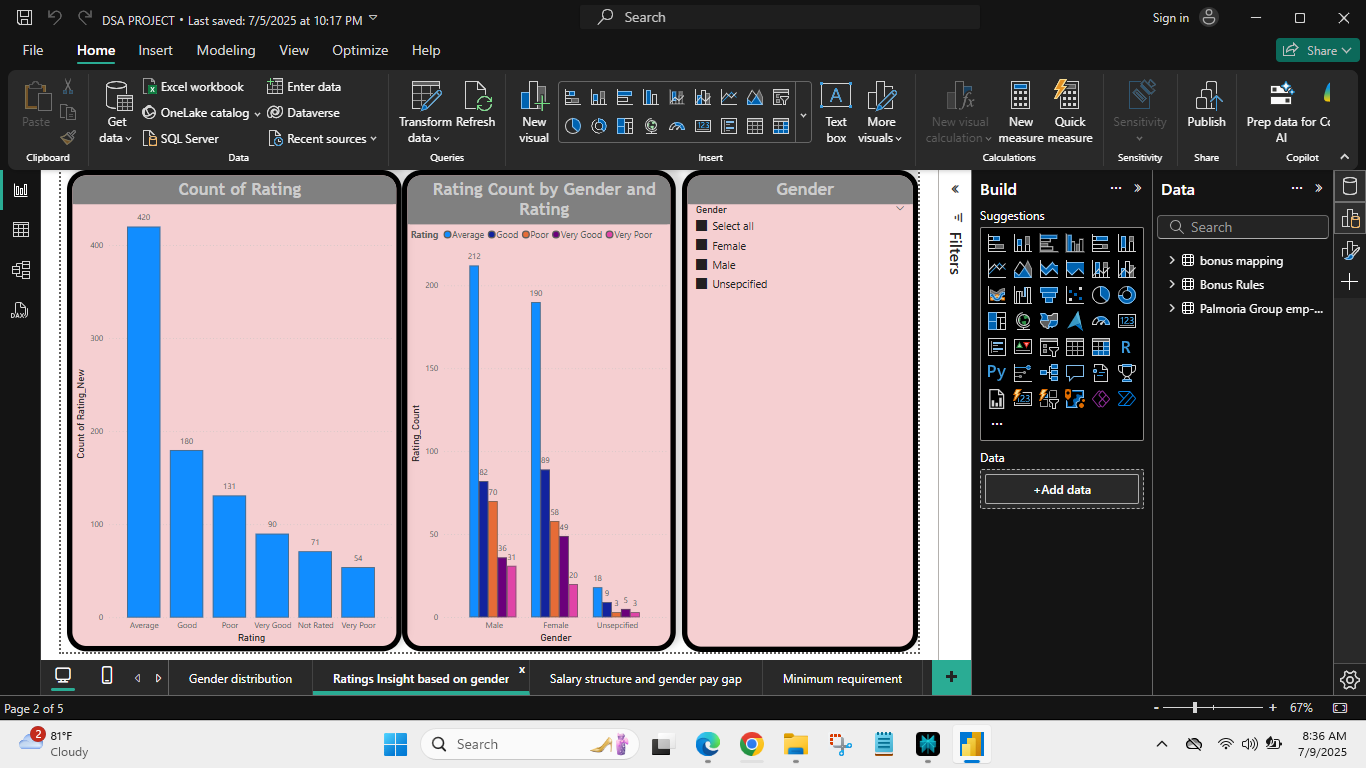

The dashboard page shown, as its layout file describes it:
{"tool":"powerbi","page":{"name":"Ratings Insight based on gender","canvas":[1280,720],"ordinal":1},"visuals":[{"type":"clusteredColumnChart","title":"Count of Rating","fields":{"Y":["CountNonNull(Palmoria Group emp-data.Rating_New)"],"Category":["Palmoria Group emp-data.Rating"]},"box":[9.3,0,499.9,719.4],"z":0},{"type":"clusteredColumnChart","title":"Rating Count by Gender and Rating","fields":{"Category":["Palmoria Group emp-data.Gender_New"],"Y":["Palmoria Group emp-data.Rating_Count"],"Series":["Palmoria Group emp-data.Rating"]},"box":[509.2,0,408.8,719.4],"z":1000},{"type":"slicer","title":"Gender","fields":{"Values":["Palmoria Group emp-data.Gender_New"]},"box":[927.5,0,352.5,720],"z":2000}]}

Visuals, with their boxes on the page's 1280x720 design canvas (x1, y1, x2, y2). These are canvas units, not pixel positions in the 1366x768 screenshot, which may show the page scaled, cropped or inside an application window:
"Count of Rating" clusteredColumnChart: 9, 0, 509, 719
"Rating Count by Gender and Rating" clusteredColumnChart: 509, 0, 918, 719
"Gender" slicer: 928, 0, 1280, 720
